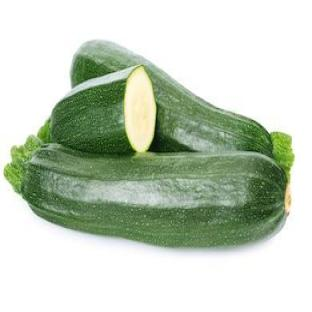Zucchini: (71, 41, 293, 175), (11, 144, 289, 247), (51, 66, 155, 152)
